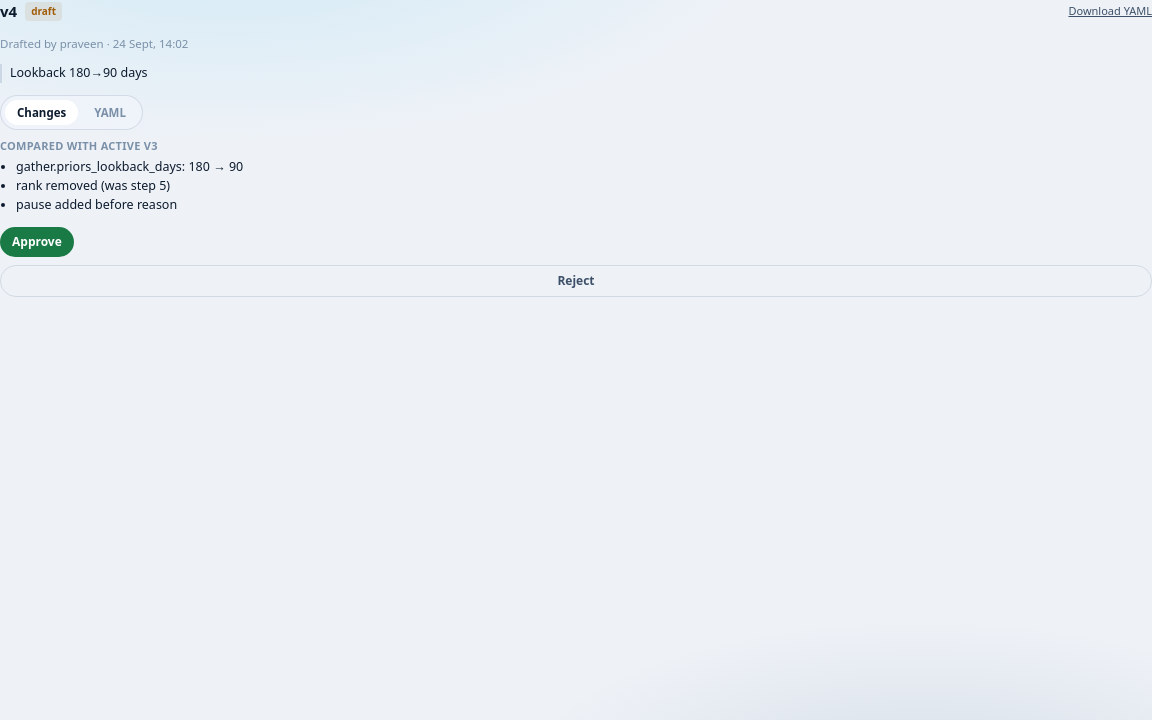
Test case: VersionDetail › keeps the dialog open with the server’s reason when approval fails
The width and height of the screenshot is (1152, 720).
Click the button "Approve".
click(37, 242)  # box [0,226,74,256]
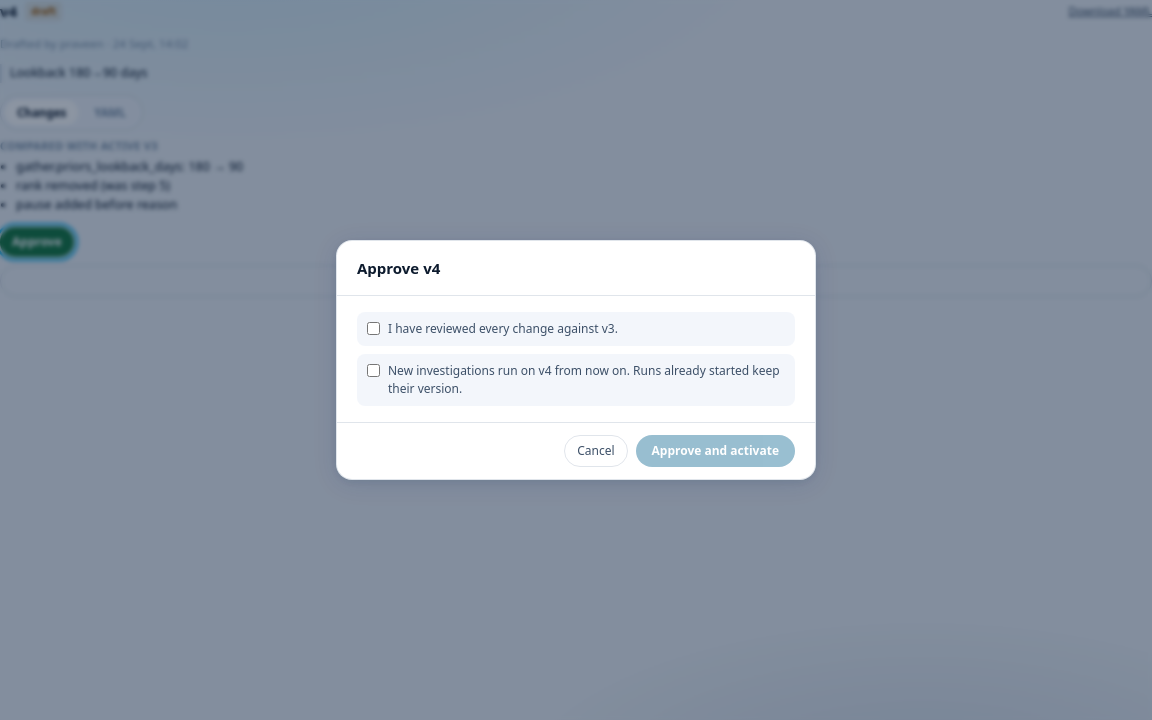
Click the checkbox labelled "I have reviewed every change against v3.".
click(374, 329)  # box [367,322,380,335]
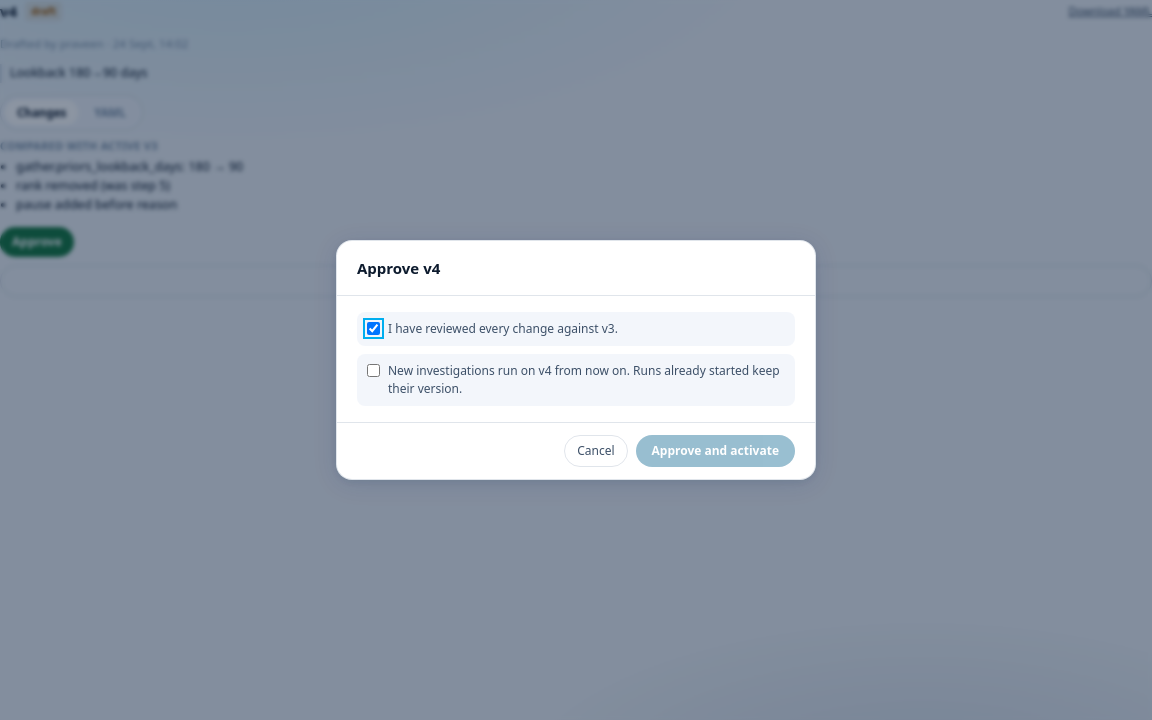
Click the 2nd checkbox.
click(374, 371)  # box [367,364,380,377]
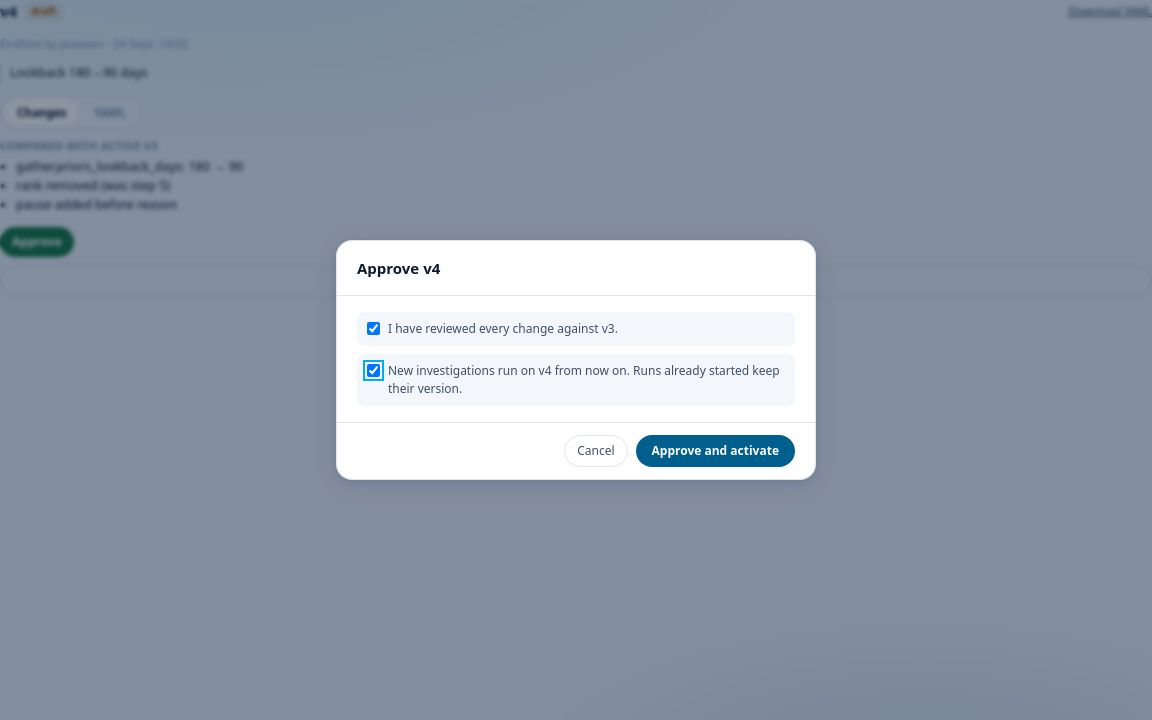
Click the button "Approve and activate".
click(715, 451)  # box [636,435,795,467]
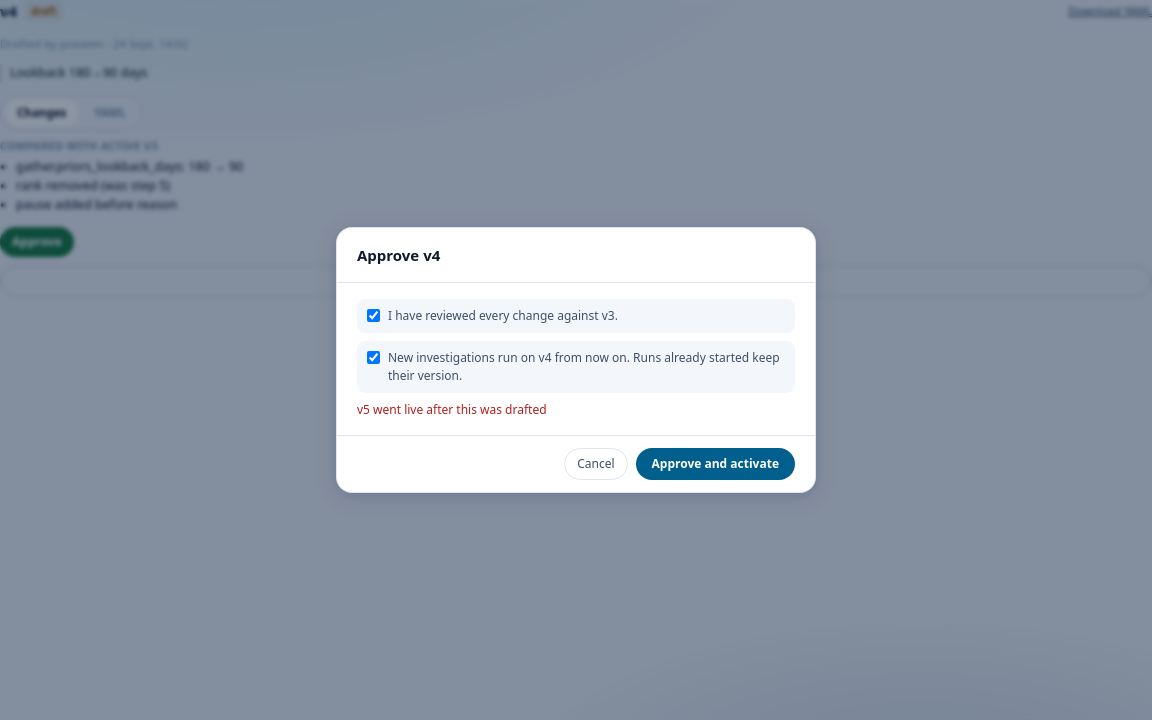
Check: the text "v5 went live after this was drafted" is shown, box [357,401,546,418]
